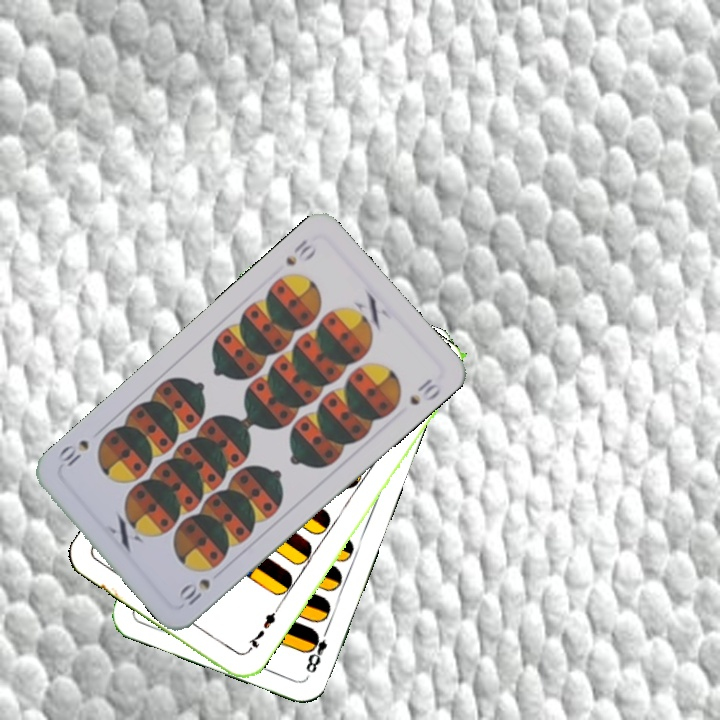E7: (241, 605, 281, 657)
E8: (301, 622, 332, 676)
S10: (175, 574, 213, 611), (281, 234, 319, 269)
